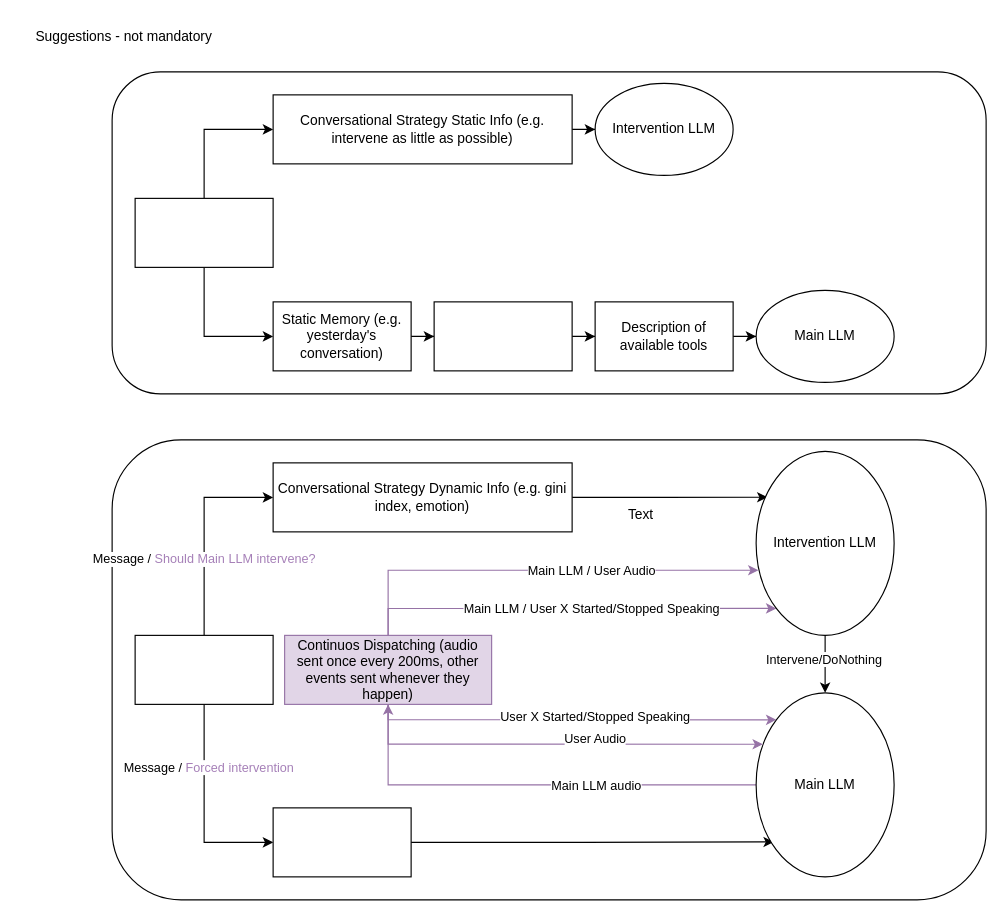
The diagram is 1006 pixels wide and 920 high, and some of its shapes have lost their labels. Here are the shapes that lost their labels. From the top down, the centre of each, then its label:
the point at 203,232: Startup Logic
the point at 502,336: Persona (e.g. be formal, be supportive...)
the point at 203,669: End of turn Dispatching (triggered every time a turn ends)
the point at 341,842: Dinamic Memory (only if applicable)
